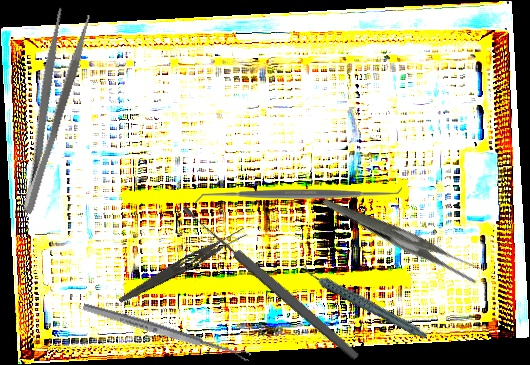Dressing Forceps: (322, 157, 486, 318), (0, 6, 95, 216), (116, 224, 250, 309)
Handpiece: (301, 241, 429, 362)
Spatula Surgical: (195, 183, 402, 206)
Surgical Spoon: (179, 202, 362, 363), (81, 301, 252, 363)
